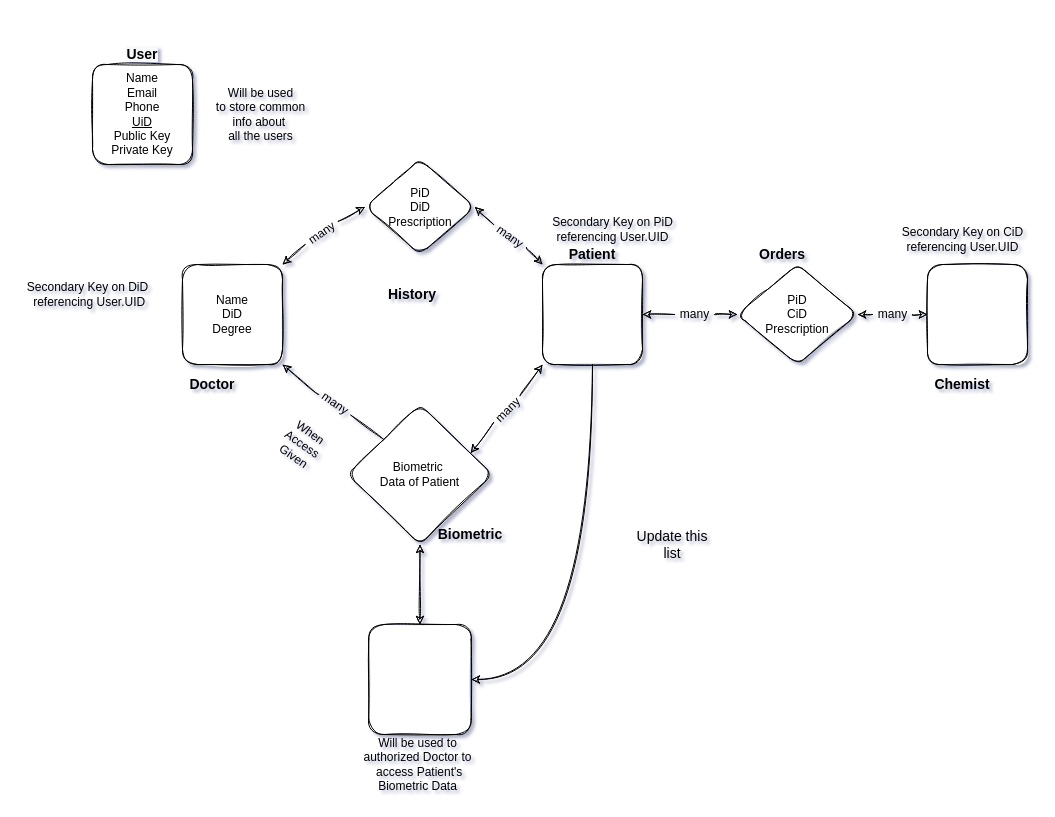
The diagram is 1055 pixels wide and 817 high, and some of its shapes have lost their labels. The centre of each missing label's shape, as x and y in pixels:
Authorization List DiD PiD CN: (419,679)
Name CiD Location: (977,314)
Name PiD: (592,314)
